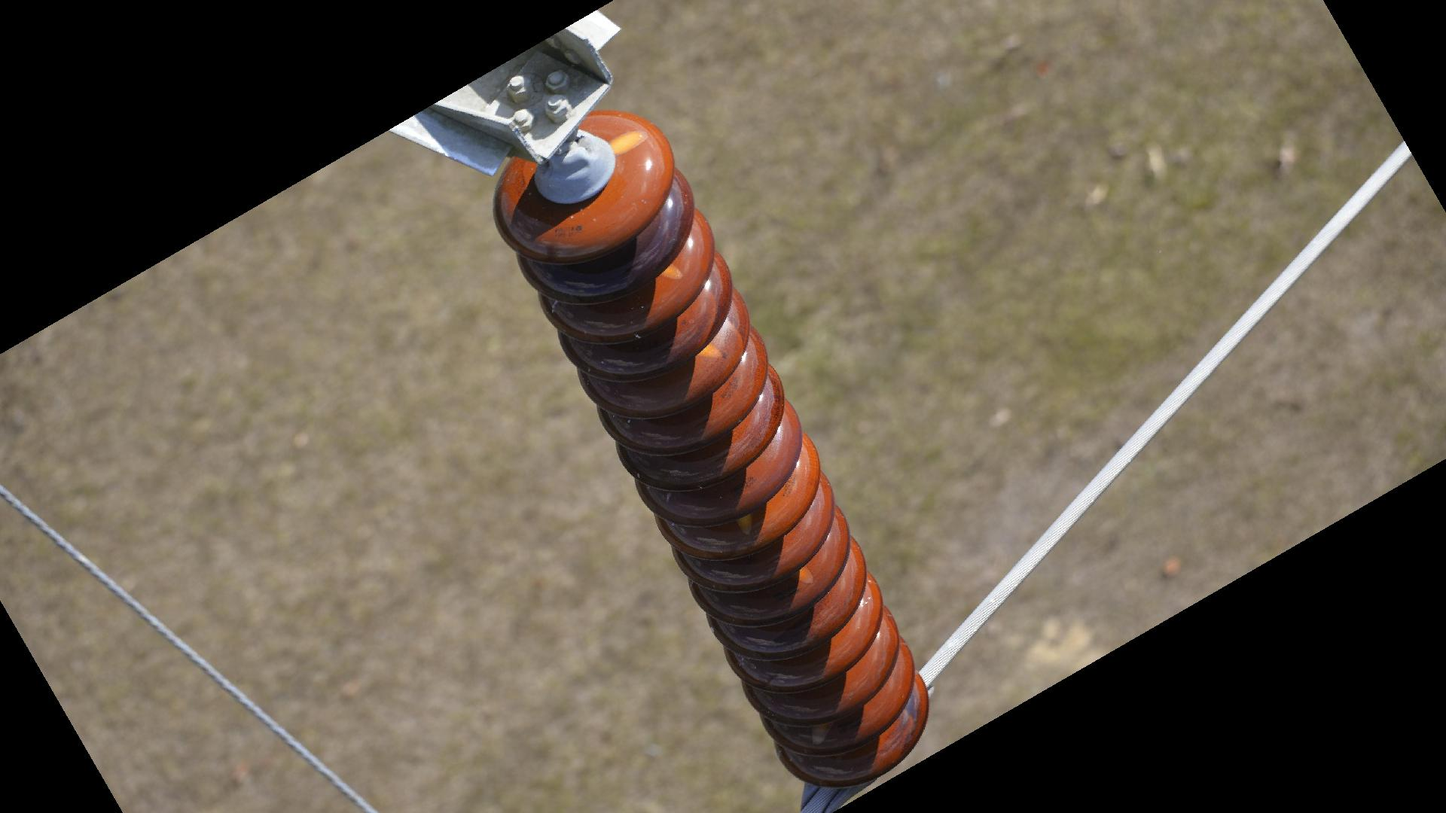insulator: (484, 105, 935, 792)
insulator_flashover: (606, 126, 650, 157)
